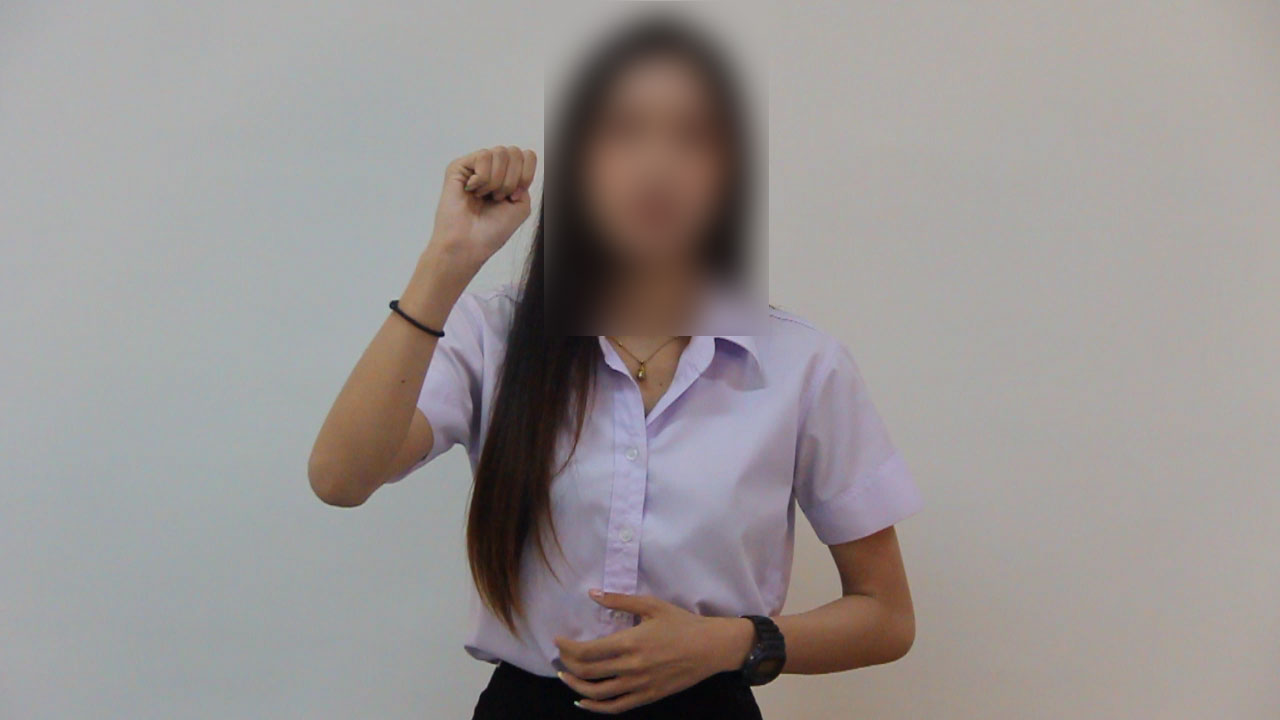sor: (420, 130, 539, 280)
